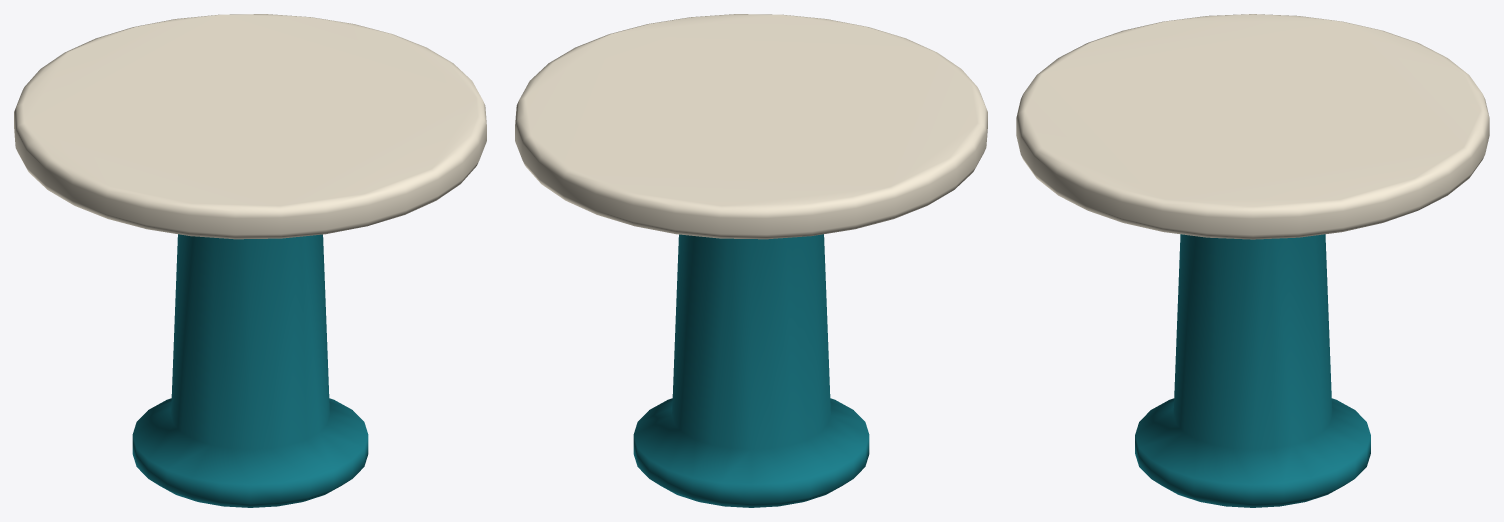
File: Lounge_Break_Table.glb
3 views of the same model, side by side, from view 1: azimuth 30°, elevation 25°; view 2: azimuth 150°, elevation 25°; view 3: azimuth 270°, elevation 25° (orthographic).
Visible parts, largest first — view 1: Lounge_Break_Table__Visual; view 2: Lounge_Break_Table__Visual; view 3: Lounge_Break_Table__Visual.
Boxes of the visible parts, x1,y1,x2,y2 form: Lounge_Break_Table__Visual: (14,14,486,507); Lounge_Break_Table__Visual: (515,14,987,507); Lounge_Break_Table__Visual: (1016,14,1489,507).
Size of the model in its own units: 0.9 by 0.74 by 0.9.
1 material, 1 textured.
